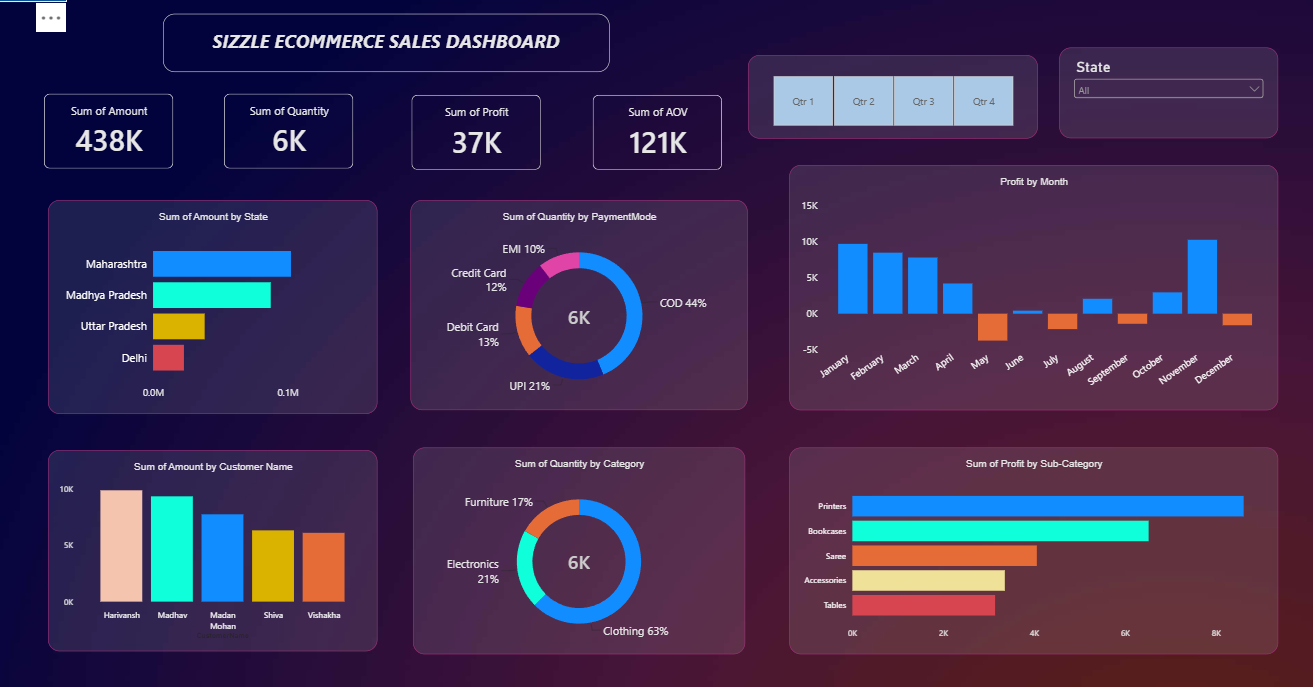

What the dashboard file says about the page in this screenshot:
{"tool":"powerbi","page":{"name":"Page 1","canvas":[1920,1080],"ordinal":0},"visuals":[{"type":"textbox","box":[240.7,56.1,649.7,85.1],"z":0},{"type":"columnChart","title":"Profit by Month","fields":{"Category":["Orders.Order Date.Variation.Date Hierarchy.Month"],"Y":["Sum(Details.Profit)"]},"box":[1150.9,276.9,711.2,356.5],"z":1000},{"type":"barChart","fields":{"Category":["Details.Sub-Category"],"Y":["Sum(Details.Profit)"]},"box":[1150.9,687.7,711.2,300.4],"z":2000},{"type":"donutChart","fields":{"Category":["Details.Category"],"Y":["Sum(Details.Quantity)"]},"box":[604.4,687.7,483.2,300.4],"z":3000},{"type":"donutChart","fields":{"Category":["Details.PaymentMode"],"Y":["Sum(Details.Quantity)"]},"box":[600.8,327.5,490.4,305.8],"z":4000},{"type":"cardVisual","fields":{"Data":["Sum(Details.Amount)"]},"box":[50.7,157.4,220.8,139.3],"z":5000},{"type":"cardVisual","fields":{"Data":["Sum(Details.Quantity)"]},"box":[313.1,157.4,220.8,139.3],"z":6000},{"type":"cardVisual","fields":{"Data":["Sum(Details.Profit)"]},"box":[586.3,159.3,220.8,139.3],"z":7000},{"type":"cardVisual","fields":{"Data":["Sum(Details.AOV)"]},"box":[848.7,159.3,220.8,139.3],"z":8000},{"type":"barChart","fields":{"Category":["Orders.State"],"Y":["Sum(Details.Amount)"]},"box":[72.4,327.5,479.6,311.3],"z":9000},{"type":"columnChart","title":"Sum of Amount by Customer Name","fields":{"Category":["Orders.CustomerName"],"Y":["Sum(Details.Amount)"]},"box":[72.4,691.3,479.6,293.2],"z":10000},{"type":"slicer","fields":{"Values":["Orders.Order Date.Variation.Date Hierarchy.Quarter"]},"box":[1091.2,115.8,421.7,121.2],"z":11000},{"type":"actionButton","box":[0,0,100,40],"z":12000},{"type":"slicer","fields":{"Values":["Orders.State"]},"box":[1543.6,105,318.5,132.1],"z":13000}]}

Visuals, with their boxes on the page's 1920x1080 design canvas (x1, y1, x2, y2). These are canvas units, not pixel positions in the 1313x687 screenshot, which may show the page scaled, cropped or inside an application window:
textbox: bbox=[241, 56, 890, 141]
"Profit by Month" columnChart: bbox=[1151, 277, 1862, 633]
barChart - Details.Sub-Category x Sum(Details.Profit): bbox=[1151, 688, 1862, 988]
donutChart - Details.Category x Sum(Details.Quantity): bbox=[604, 688, 1088, 988]
donutChart - Details.PaymentMode x Sum(Details.Quantity): bbox=[601, 328, 1091, 633]
cardVisual - Sum(Details.Amount): bbox=[51, 157, 272, 297]
cardVisual - Sum(Details.Quantity): bbox=[313, 157, 534, 297]
cardVisual - Sum(Details.Profit): bbox=[586, 159, 807, 299]
cardVisual - Sum(Details.AOV): bbox=[849, 159, 1070, 299]
barChart - Orders.State x Sum(Details.Amount): bbox=[72, 328, 552, 639]
"Sum of Amount by Customer Name" columnChart: bbox=[72, 691, 552, 984]
slicer - Orders.Order Date.Variation.Date Hierarchy.Quarter: bbox=[1091, 116, 1513, 237]
actionButton: bbox=[0, 0, 100, 40]
slicer - Orders.State: bbox=[1544, 105, 1862, 237]
